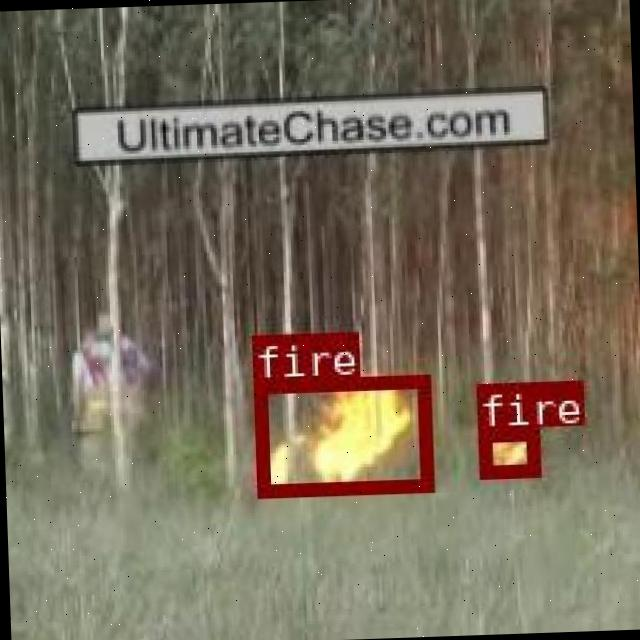fire: (252, 374, 429, 494), (476, 424, 536, 474)
